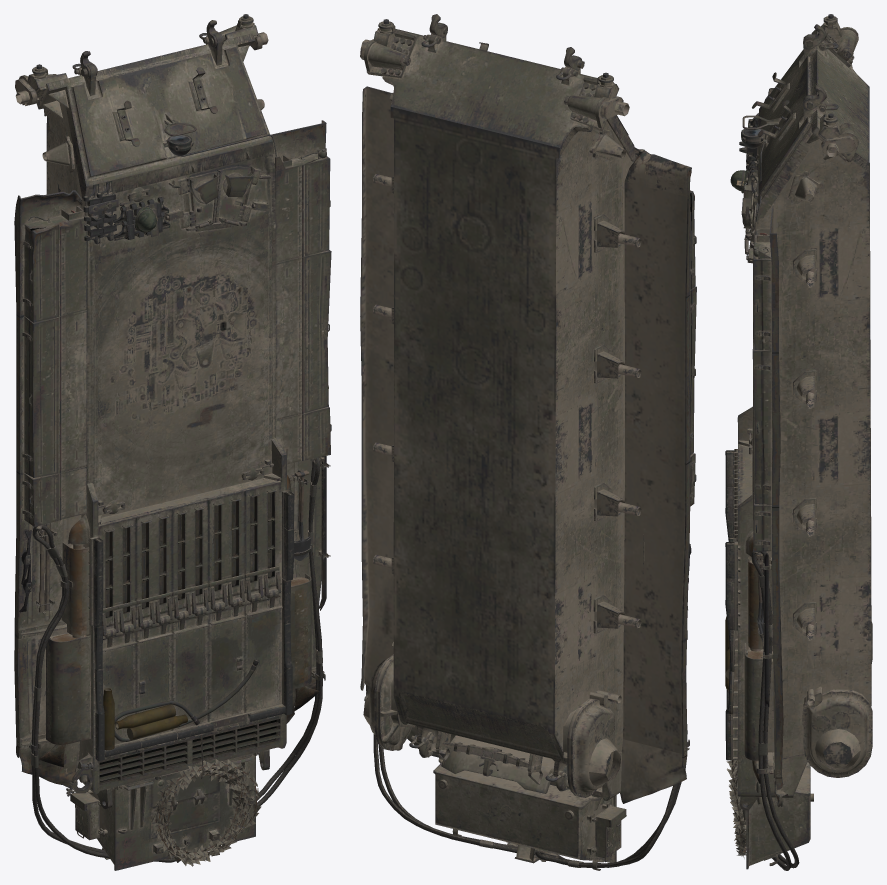
Rendered from Hull.glb.
The picture shows the model from 3 angles, left to right: view 1: azimuth 30°, elevation 25°; view 2: azimuth 150°, elevation 25°; view 3: azimuth 270°, elevation 25°; orthographic projection. The views are drawn at different scales.
Parts seen in each view (by area): view 1: set_0_group_0; view 2: set_0_group_0; view 3: set_0_group_0.
Boxes of the visible parts, x1,y1,x2,y2 form: set_0_group_0: (14, 14, 331, 870); set_0_group_0: (360, 14, 696, 870); set_0_group_0: (725, 14, 872, 870).
Bounding box in the file's own units: 3.36 × 8.39 × 1.41.
Materials: 1 (1 with a texture image).
